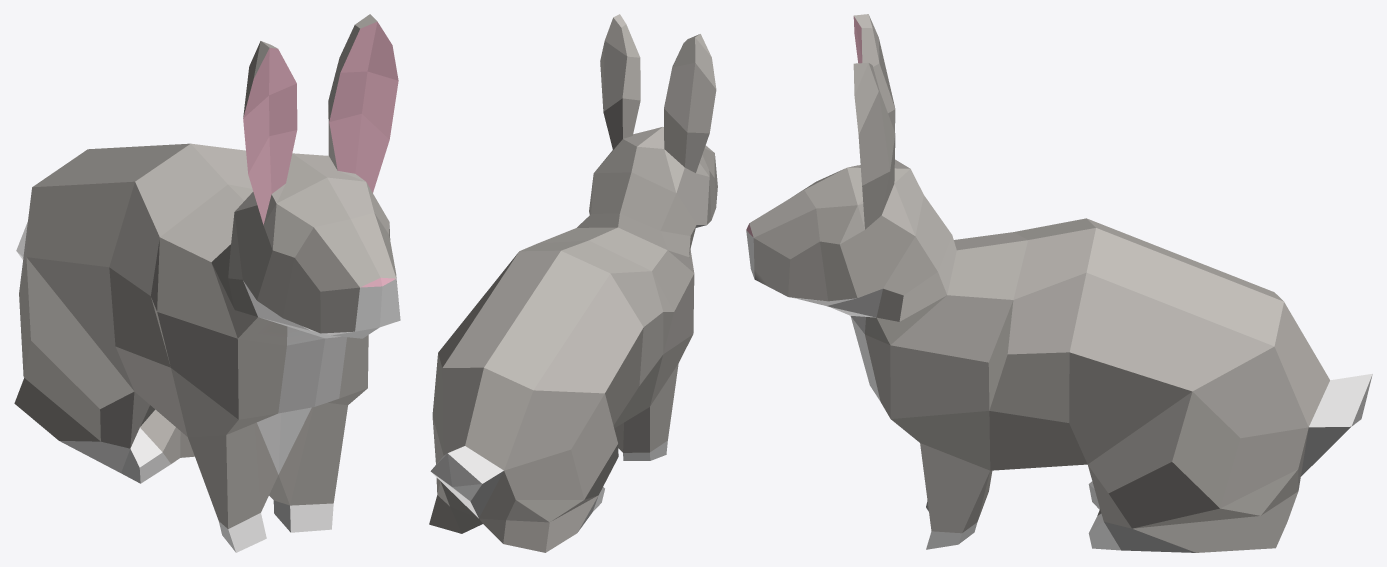
The model's file is Rabbit.fbx.
The picture shows the model from 3 angles, left to right: view 1: azimuth 30°, elevation 25°; view 2: azimuth 150°, elevation 25°; view 3: azimuth 270°, elevation 25°; orthographic projection. The views are drawn at different scales.
Visible parts, largest first — view 1: Cube; view 2: Cube; view 3: Cube.
Boxes of the visible parts, x1,y1,x2,y2 form: Cube: (14,14,400,552); Cube: (429,14,717,552); Cube: (746,14,1372,552).
Bounding box in the file's own units: 125 × 271 × 314.
